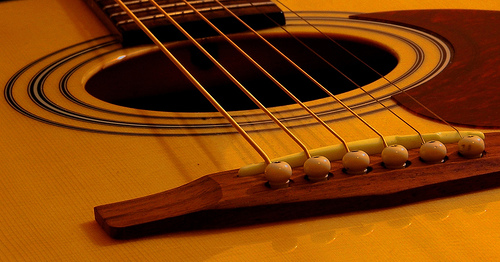guitar: (1, 1, 500, 261)
